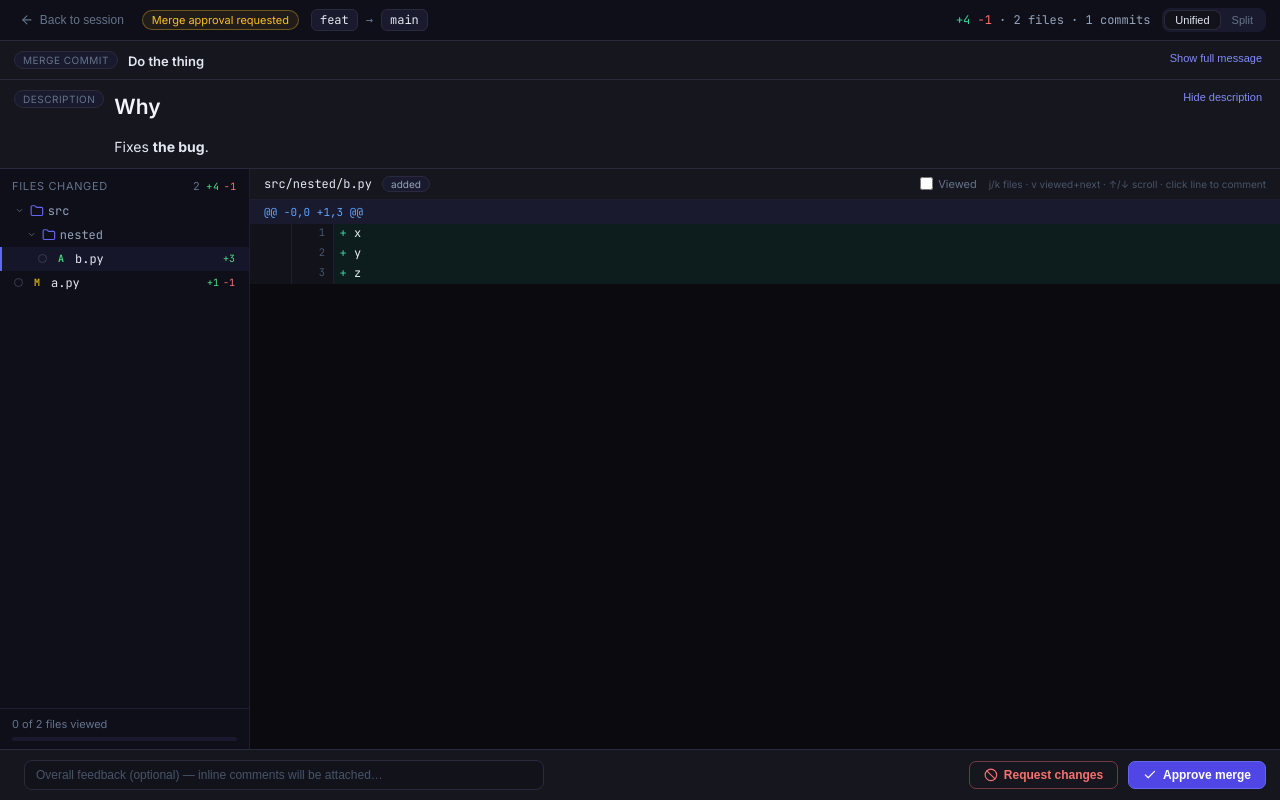
Scenario: MergeReviewTakeover › shows the agent's description as markdown and collapses it
Expected: the text "the bug" is shown, [153,138,205,155]
Expected: the heading "Why" is shown, [114,94,161,119]
Click the button "Hide description" at (1223, 97), box [1179,89,1266,105]
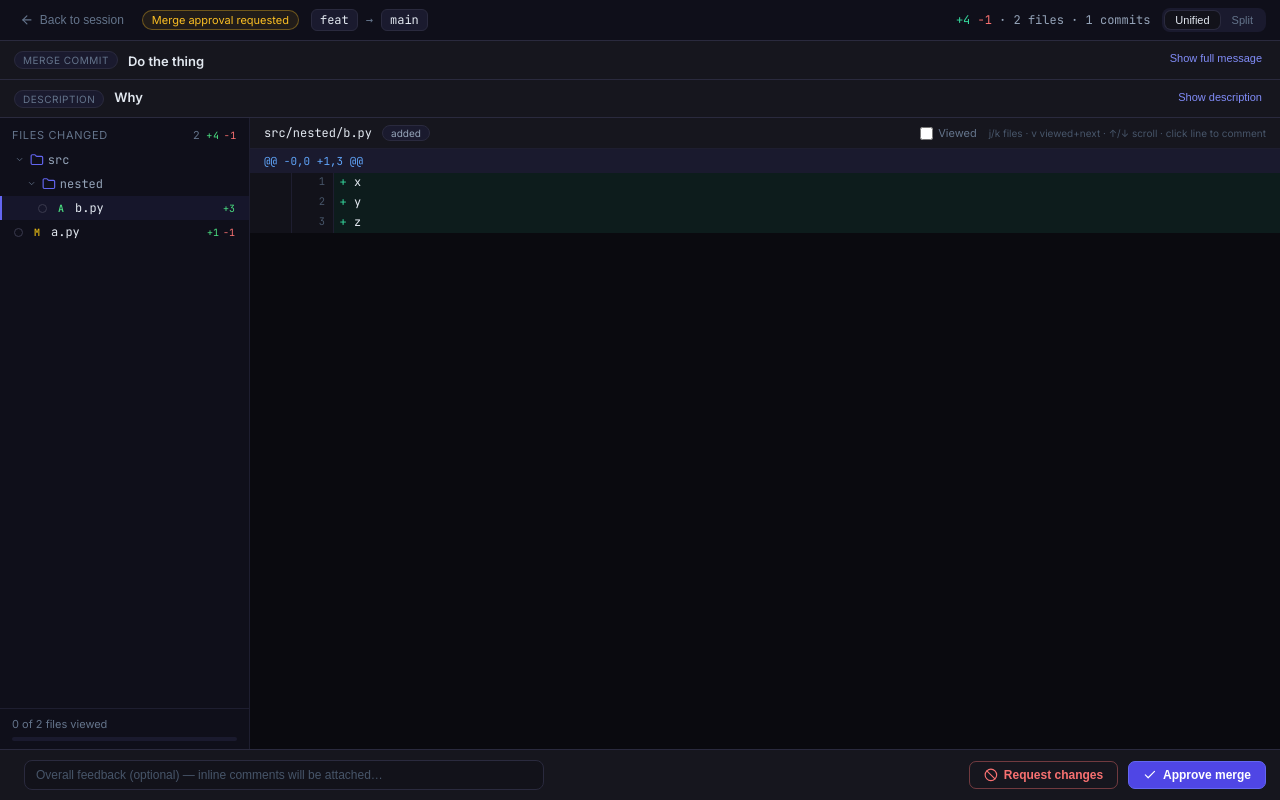
Expected: the text "Why" is shown, [114,89,143,105]
Expected: the text "the bug" is gone
